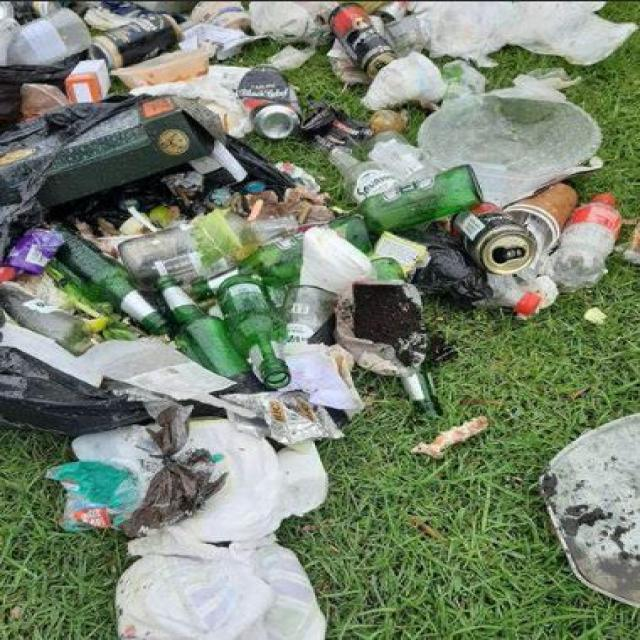dry: (517, 410, 640, 610), (102, 545, 338, 640), (5, 110, 224, 168), (33, 456, 157, 536), (442, 197, 549, 275), (237, 68, 311, 142), (318, 6, 414, 61), (6, 9, 98, 64), (123, 232, 215, 276), (98, 11, 180, 57), (7, 231, 70, 280)
